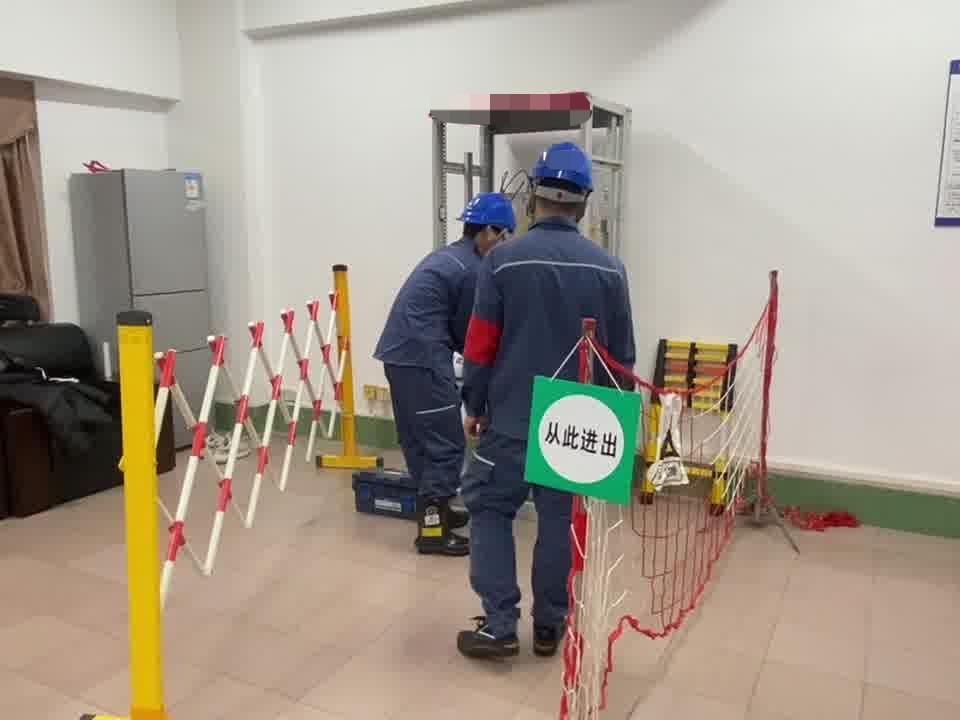halt: (528, 143, 600, 225)
